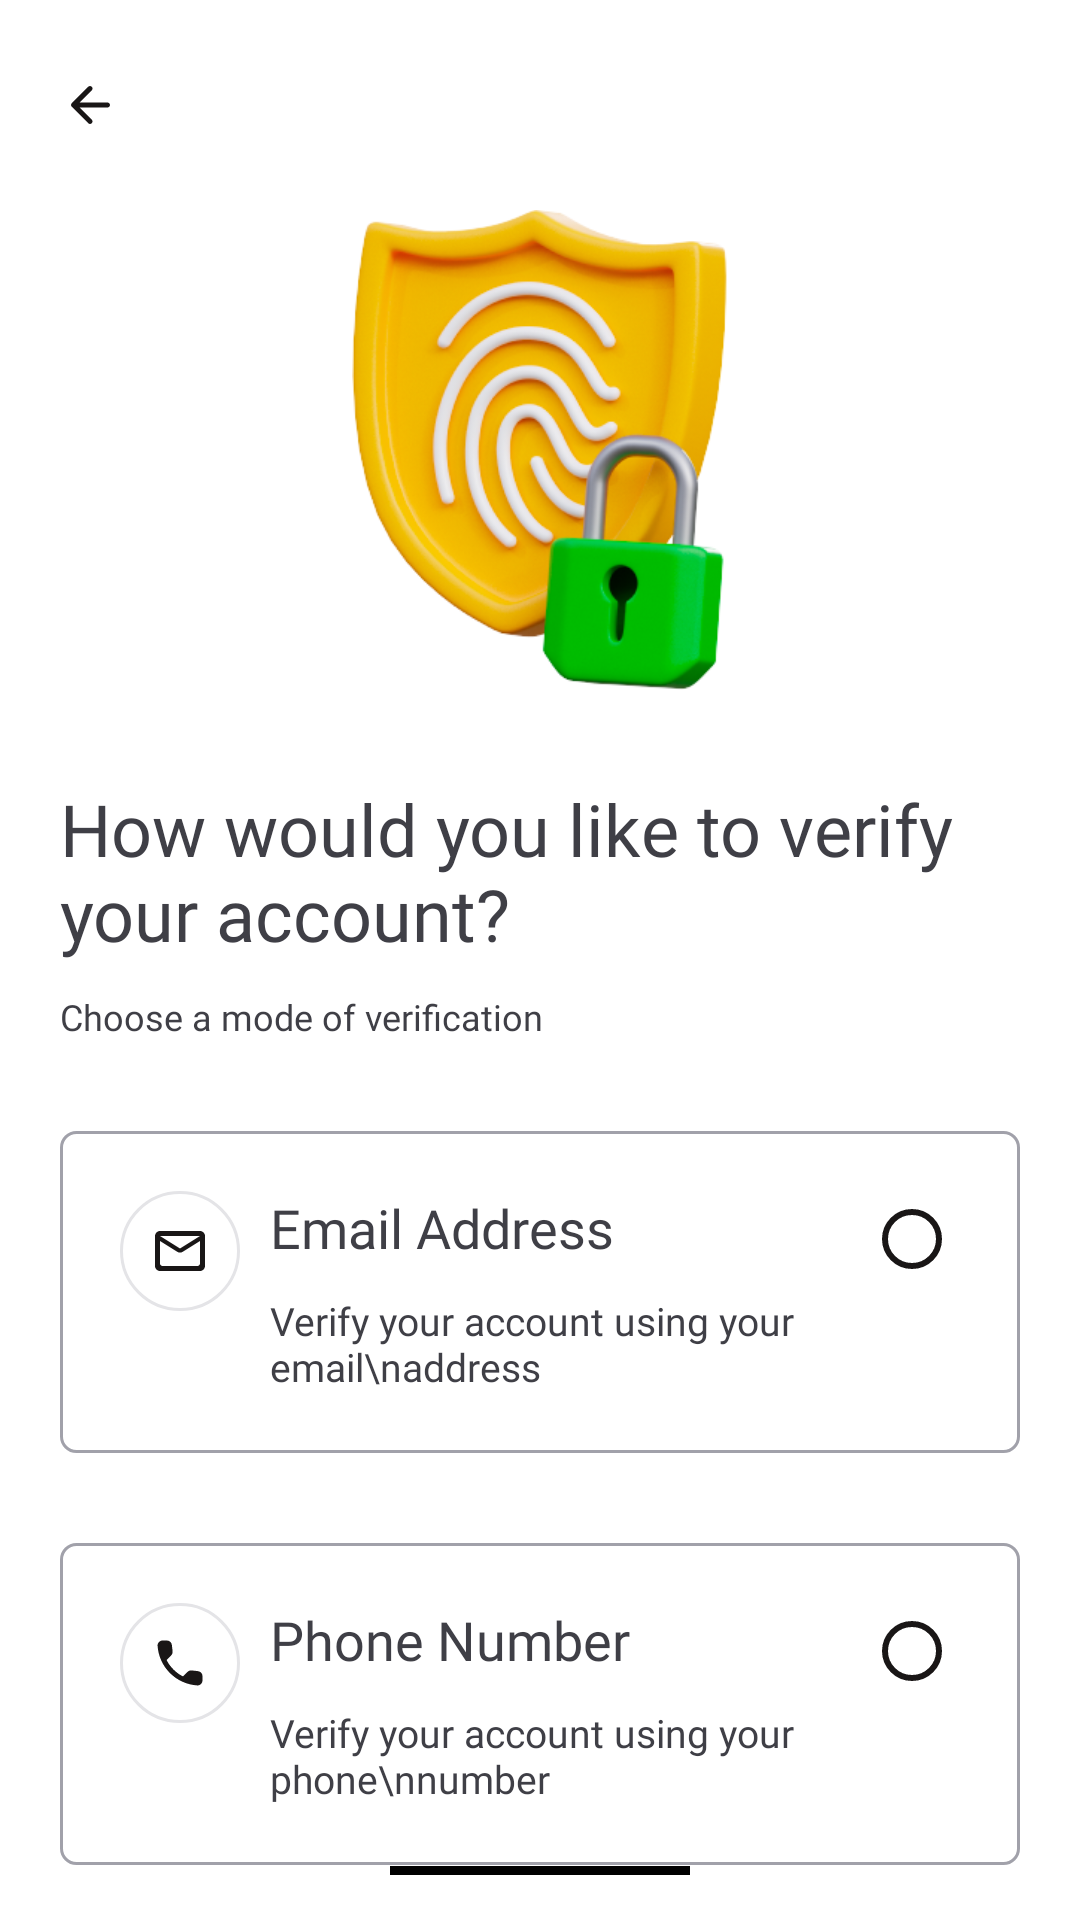

Named icons in this screenshot (1080x1920) and their centers, (x,y):
arrow left: (90,105)
